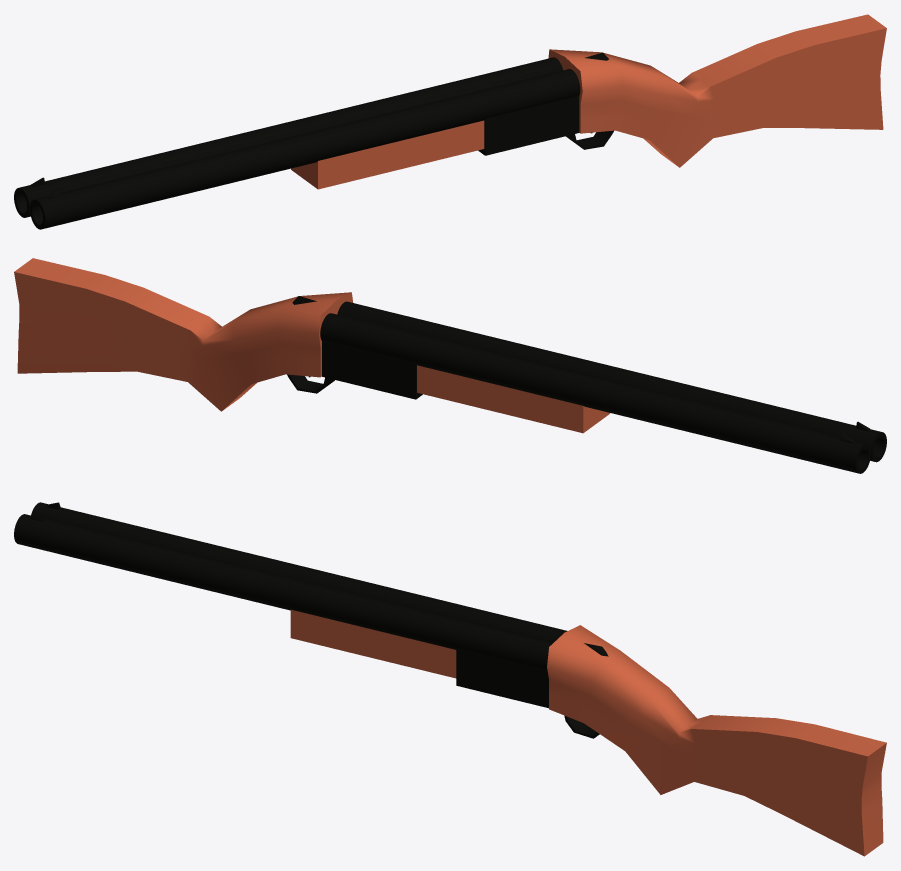
The picture shows the model from 3 angles, top to bottom: view 1: azimuth 30°, elevation 25°; view 2: azimuth 150°, elevation 25°; view 3: azimuth 330°, elevation 25°; orthographic projection.
Visible parts, largest first — view 1: Culata, Cañones, Cubo.2, Cuerpo; view 2: Culata, Cañones, Cubo.2, Cuerpo; view 3: Culata, Cañones, Cubo.2, Cuerpo.
Part boxes in pixels (box(x1,y1,x2,y2)): Culata: box(548, 14, 886, 167); Cañones: box(14, 57, 580, 229); Cubo.2: box(291, 120, 484, 189); Cuerpo: box(478, 96, 613, 155); Culata: box(14, 258, 353, 411); Cañones: box(320, 301, 886, 473); Cubo.2: box(417, 365, 610, 433); Cuerpo: box(287, 341, 422, 399); Culata: box(547, 625, 886, 856); Cañones: box(14, 502, 567, 670); Cubo.2: box(290, 609, 456, 678); Cuerpo: box(456, 648, 599, 738).
Size of the model in its own units: 405 by 64.69 by 28.98.
